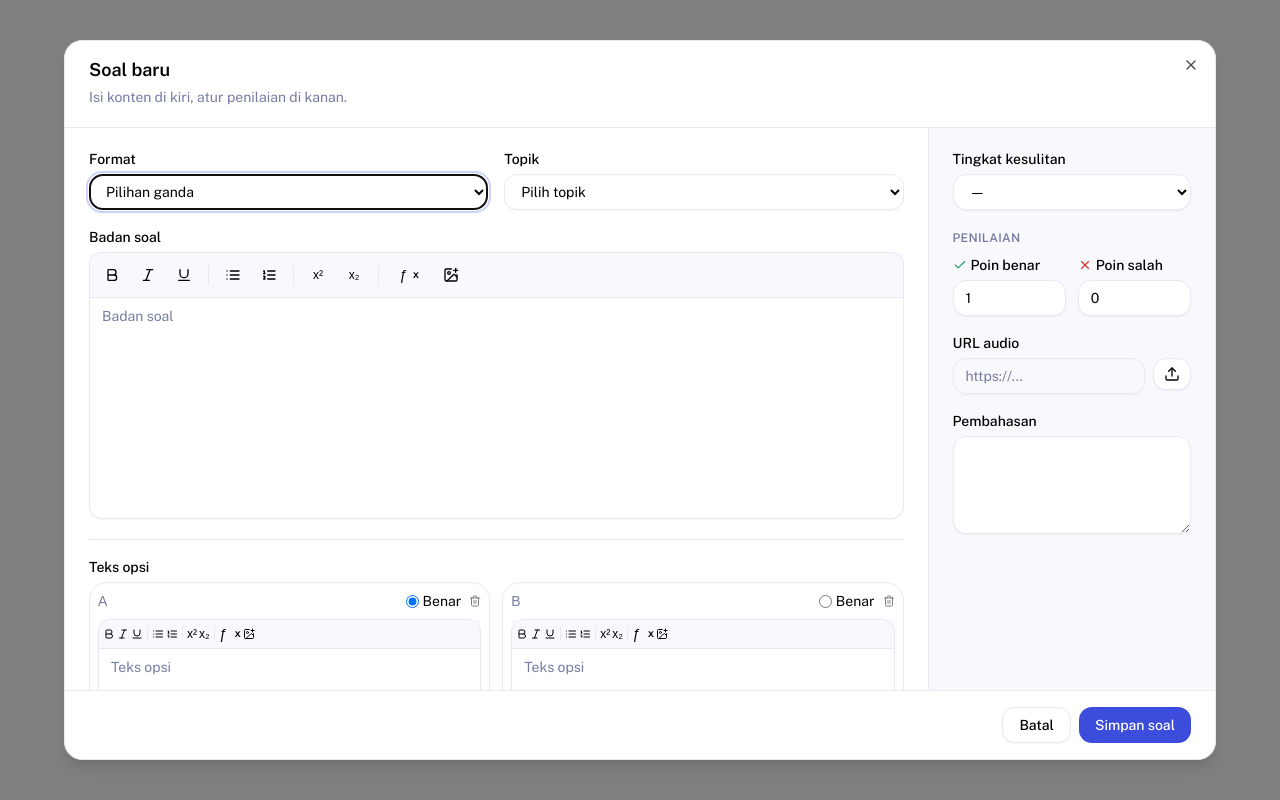
Test: QuestionEditor › empty body blocks submit with validation error
Select "Aljabar" in the dropdown labelled "Topik" at (704, 192), box [504,174,904,210]
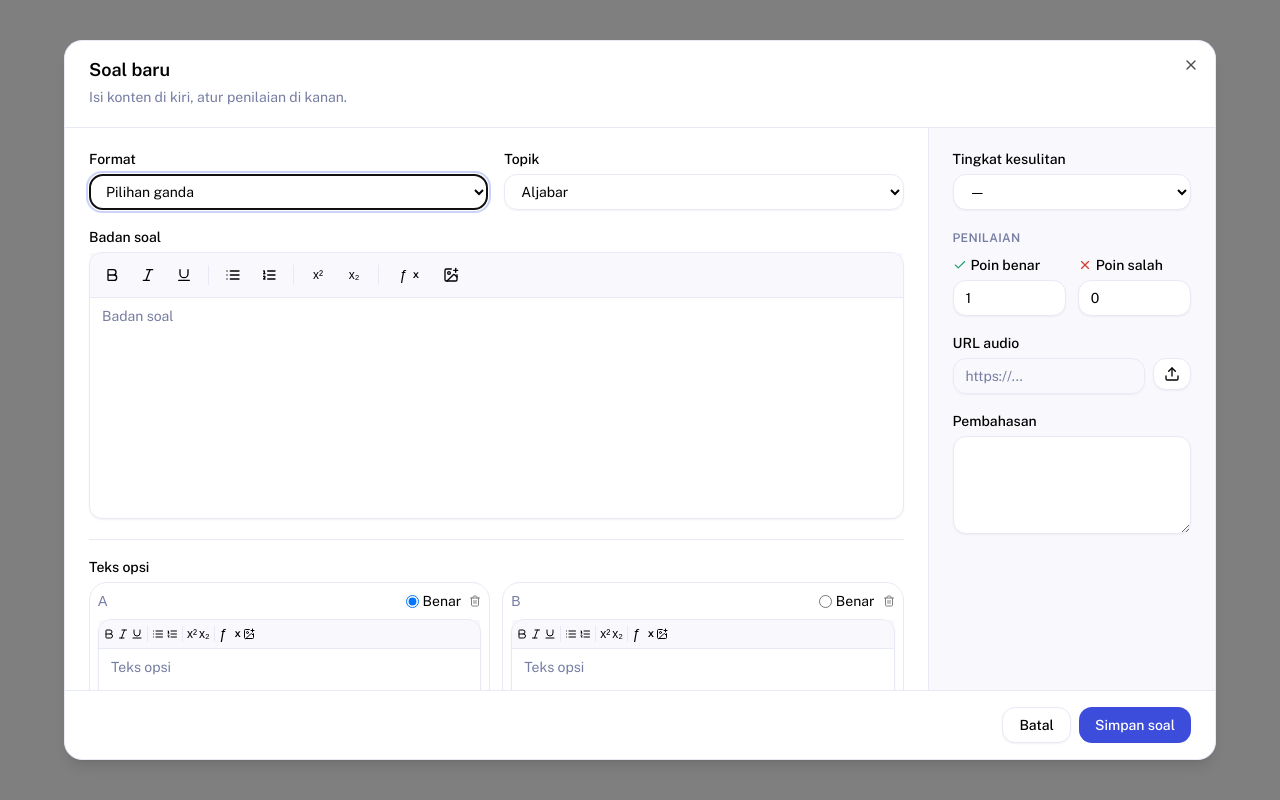
Click the button "Simpan soal".
click(1135, 725)  # box [1079,707,1191,743]
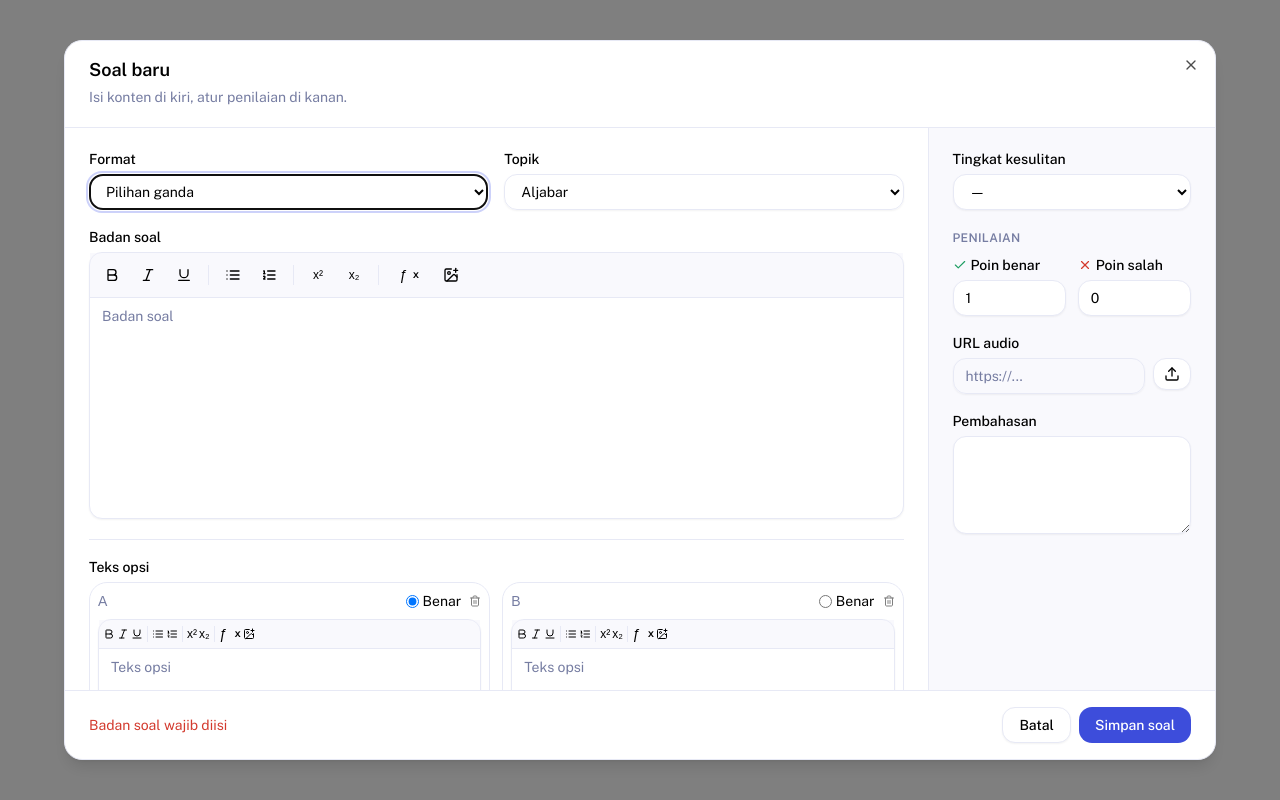
Expected: the text "Badan soal wajib diisi" is shown, [89,715,227,735]
